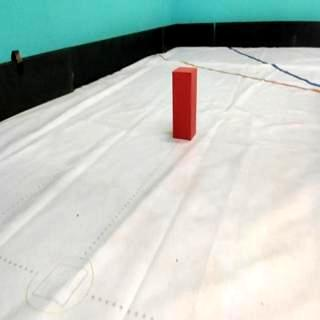redbox: (174, 64, 198, 140)
